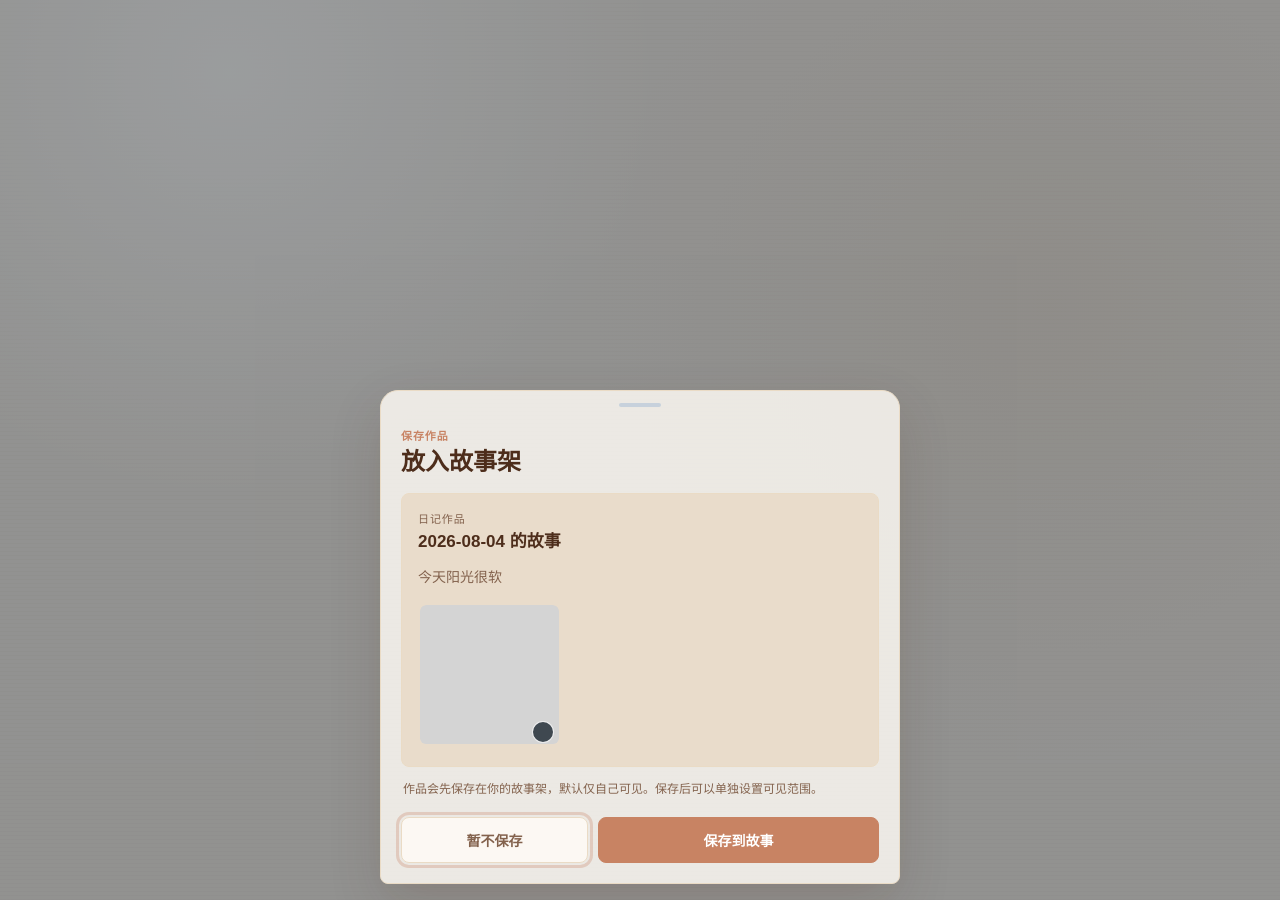
WorkSaveSheet private work builder › save failure retains input and shows an error without closing
This screenshot has width=1280, height=900.
Click the button "保存到故事": coordinates (739, 840) x1=598 y1=817 x2=879 y2=863
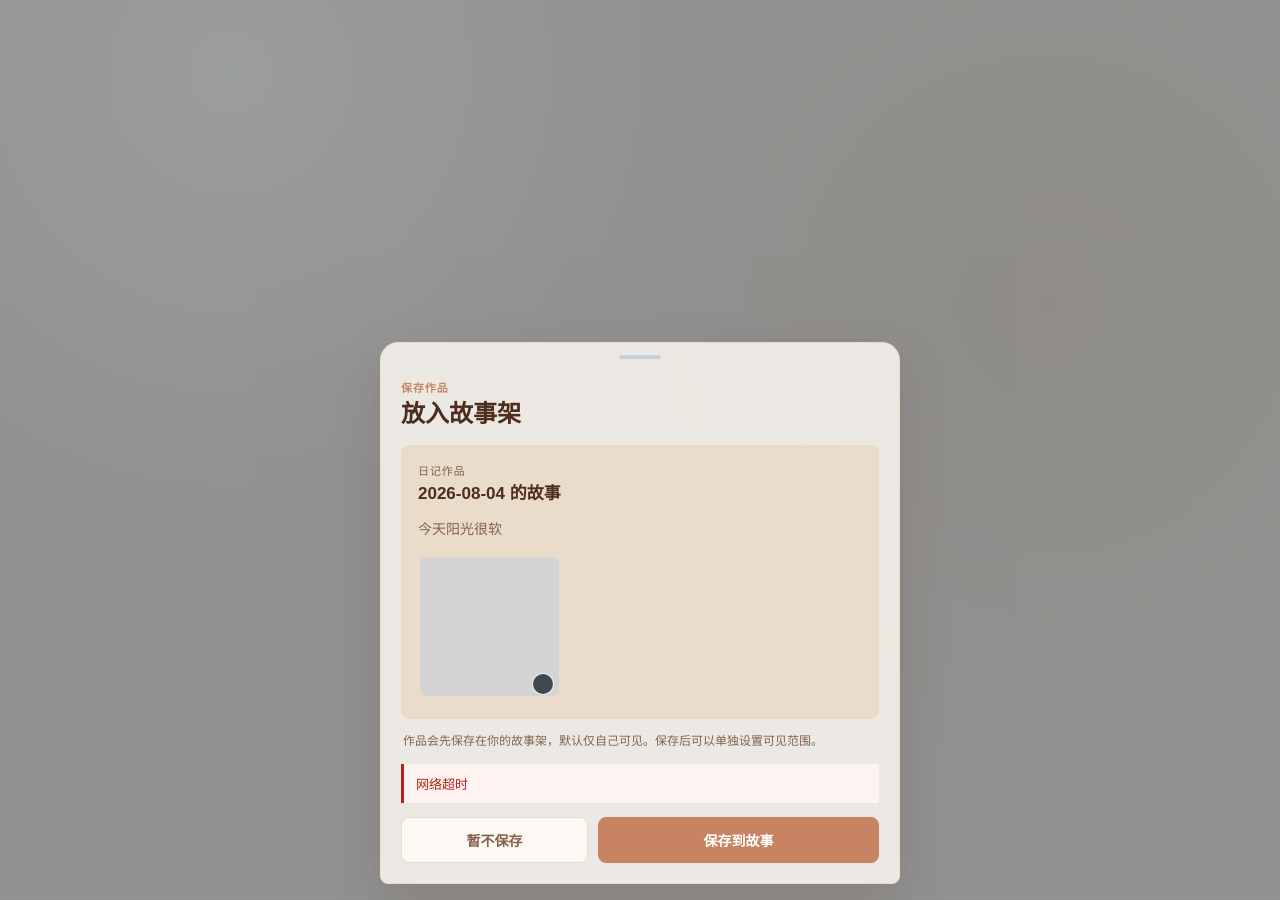
Result: the message reads "网络超时" at x1=416 y1=777 x2=468 y2=792
